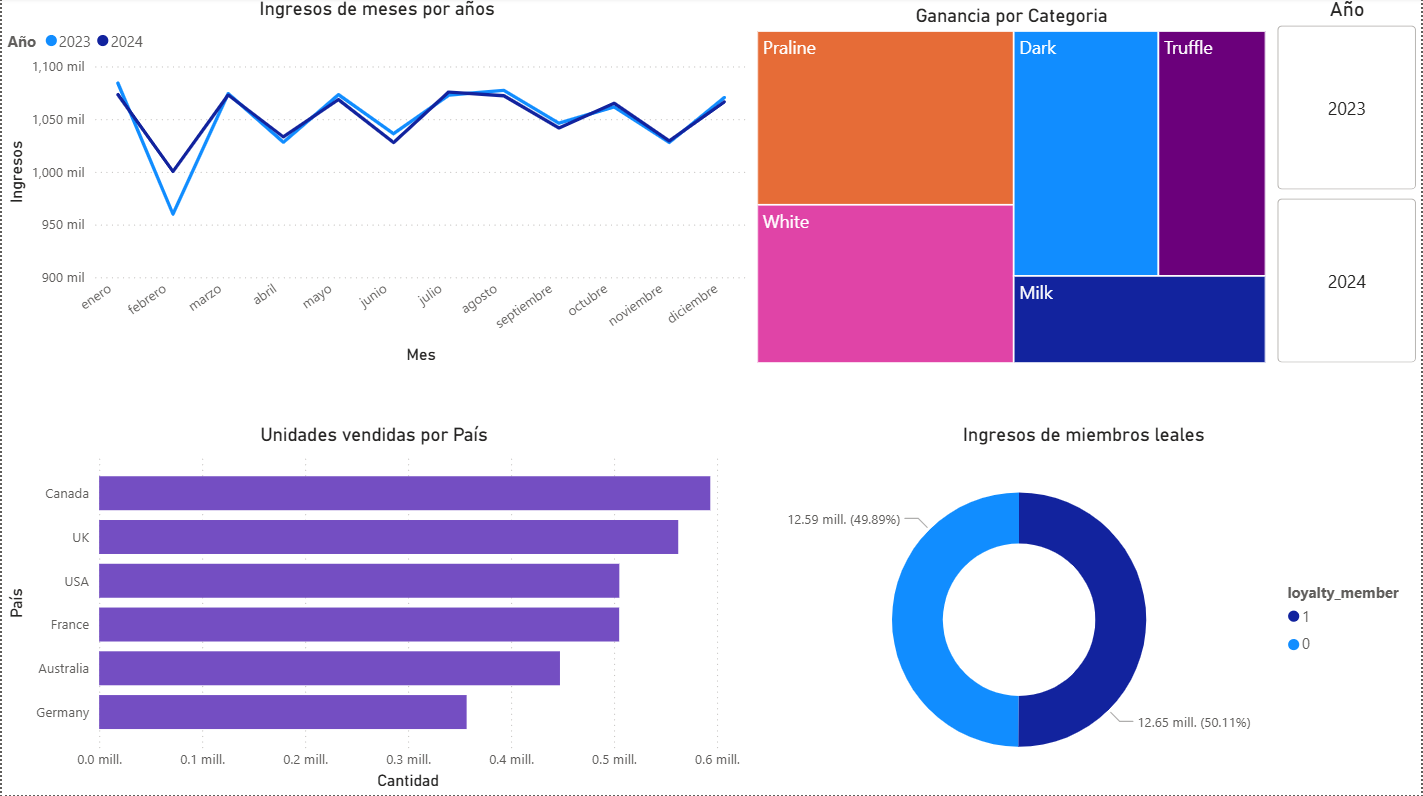

This screenshot's page, from the dashboard's own definition file:
{"tool":"powerbi","page":{"name":"Página 1","canvas":[1280,720],"ordinal":0},"visuals":[{"type":"clusteredBarChart","title":"Unidades vendidas por País","fields":{"Category":["tabla_ventas_para_PowerBI.country"],"Y":["Sum(tabla_ventas_para_PowerBI.quantity)"]},"box":[0,384.4,670.9,335.4],"z":0},{"type":"lineChart","title":"Ingresos de meses por años","fields":{"Y":["Sum(tabla_ventas_para_PowerBI.revenue)"],"Category":["tabla_ventas_para_PowerBI.order_date.Variación.Jerarquía de fechas.Mes"],"Series":["tabla_ventas_para_PowerBI.order_date.Variación.Jerarquía de fechas.Año"]},"box":[0,0,676.5,335.4],"z":1000},{"type":"advancedSlicerVisual","fields":{"Values":["tabla_ventas_para_PowerBI.order_date.Variación.Jerarquía de fechas.Año"]},"box":[1144.7,0,135.6,335.4],"z":2000},{"type":"treemap","title":"Ganancia por Categoria","fields":{"Group":["tabla_ventas_para_PowerBI.category"],"Values":["Sum(tabla_ventas_para_PowerBI.profit)"]},"box":[676.5,7,468.2,328.5],"z":3000},{"type":"donutChart","title":"Ingresos de miembros leales","fields":{"Y":["Sum(tabla_ventas_para_PowerBI.revenue)"],"Category":["tabla_ventas_para_PowerBI.loyalty_member"]},"box":[670.9,384.4,609.4,335.4],"z":4000}]}

Visuals, with their boxes in screenshot pixels (x1, y1, x2, y2), scaled from the page's 1280x720 canvas onto the 1423x796 screenshot:
"Unidades vendidas por País" clusteredBarChart: <region>0, 425, 746, 795</region>
"Ingresos de meses por años" lineChart: <region>0, 0, 752, 371</region>
advancedSlicerVisual - tabla_ventas_para_PowerBI.order_date.Variación.Jerarquía de fechas.Año: <region>1273, 0, 1422, 371</region>
"Ganancia por Categoria" treemap: <region>752, 8, 1273, 371</region>
"Ingresos de miembros leales" donutChart: <region>746, 425, 1422, 795</region>
